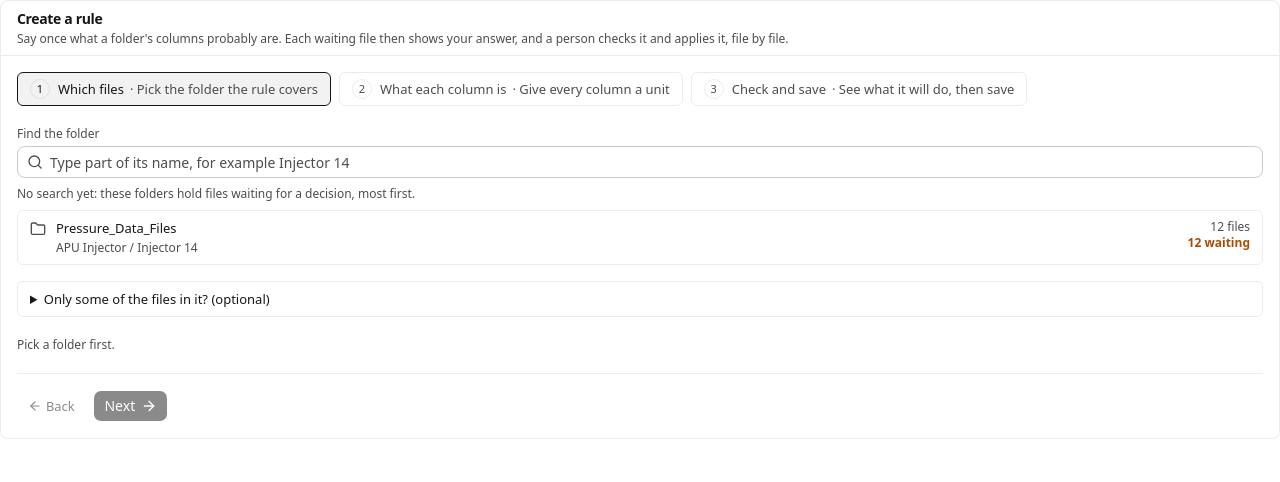
Scenario: RuleWizard › tells the reviewer when nothing is waiting, so the rule only covers later files
The width and height of the screenshot is (1280, 482).
Click the button "Pressure_Data_Files" at (116, 228), box [17,210,1263,265]
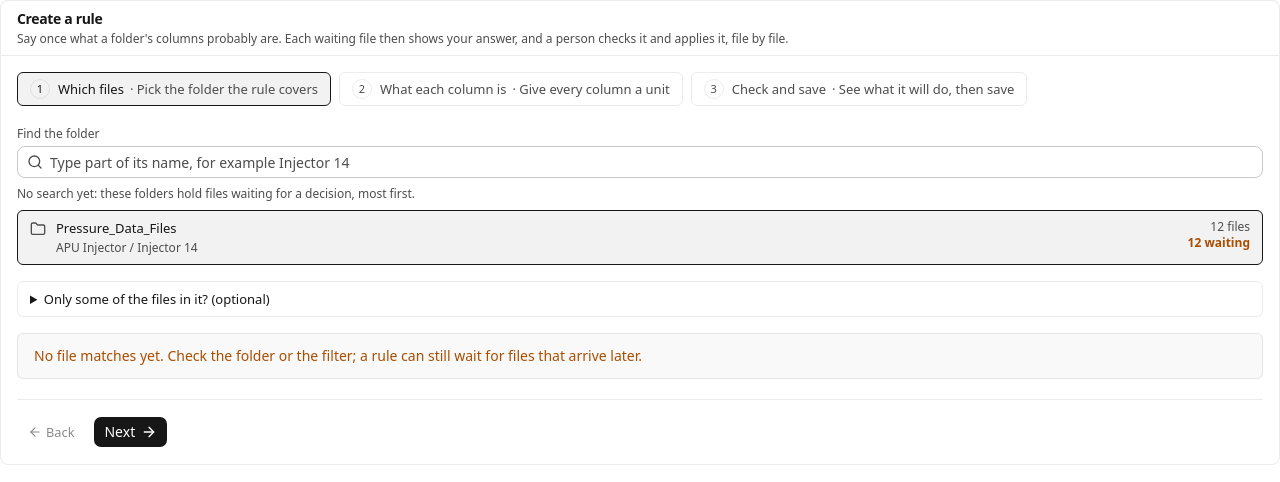
Result: the text "No file matches yet" is shown at [34,346,642,365]
